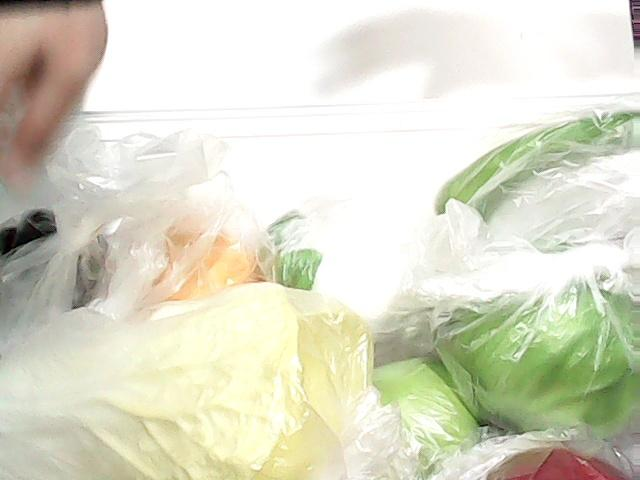apple: (365, 359, 479, 453), (484, 444, 632, 480)
cabbage: (406, 245, 640, 443)
grape: (0, 195, 76, 292)
lemon: (116, 198, 268, 312)
napa cabbage: (0, 284, 360, 480)
pepper: (412, 103, 640, 221)
radish: (258, 200, 438, 329)
